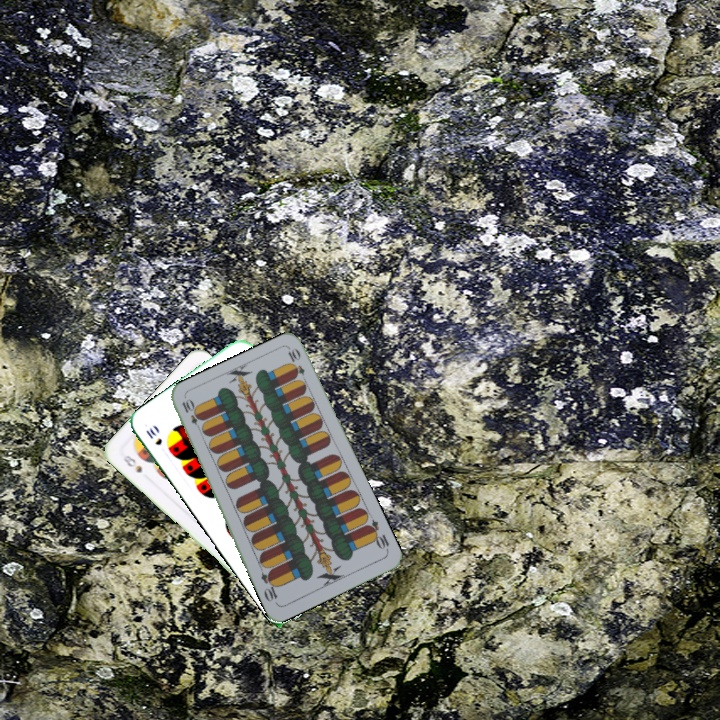E10: (362, 516, 392, 554), (178, 395, 205, 434)
S10: (142, 423, 165, 448)
S8: (119, 451, 145, 475)
